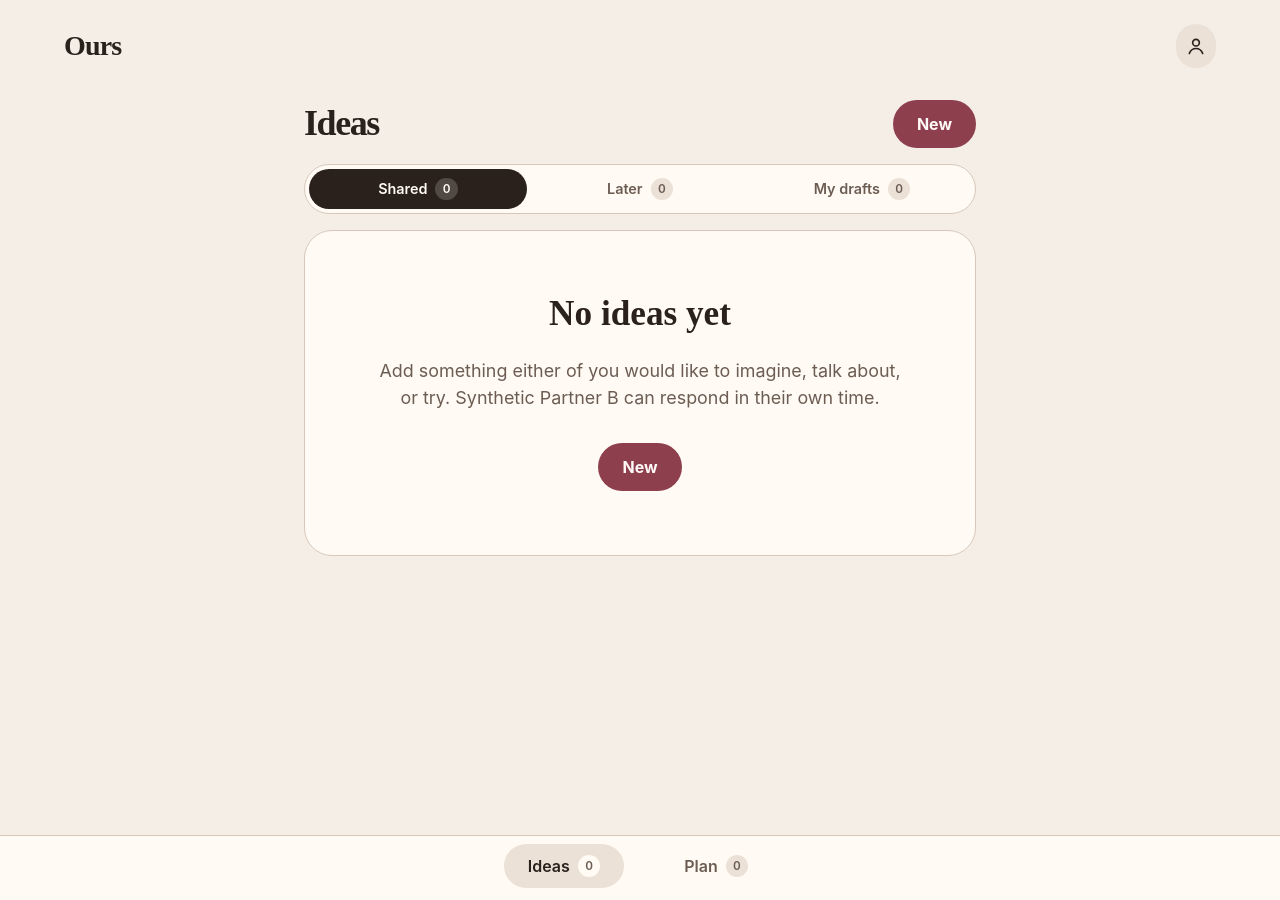
Scenario: authenticated member boundary › clears the query cache and private UI before the sign-in screen appears
Click the button named "Account".
click(1196, 46)  # box [1176,24,1216,68]
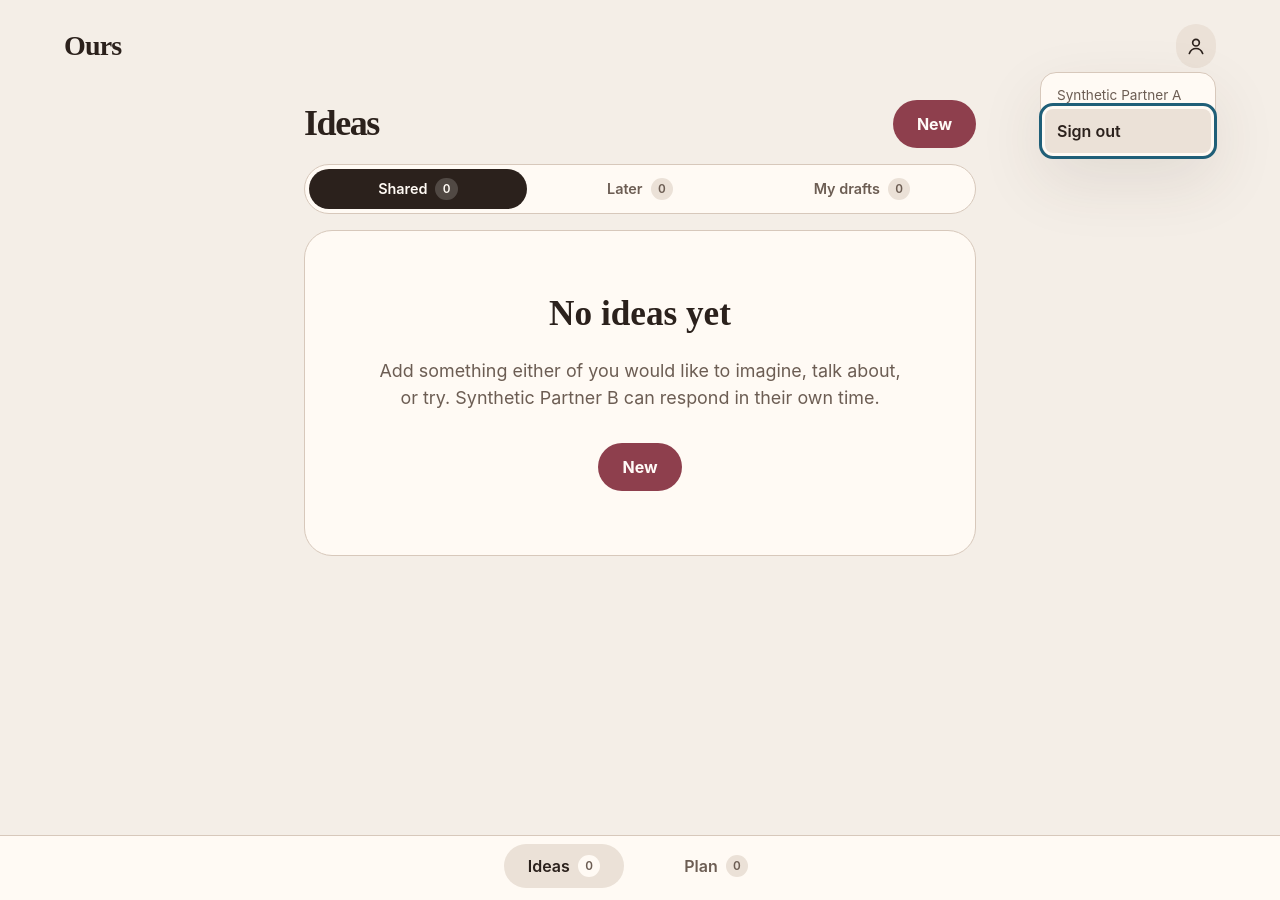
Click the menu item "Sign out".
click(1128, 131)  # box [1045,109,1211,153]
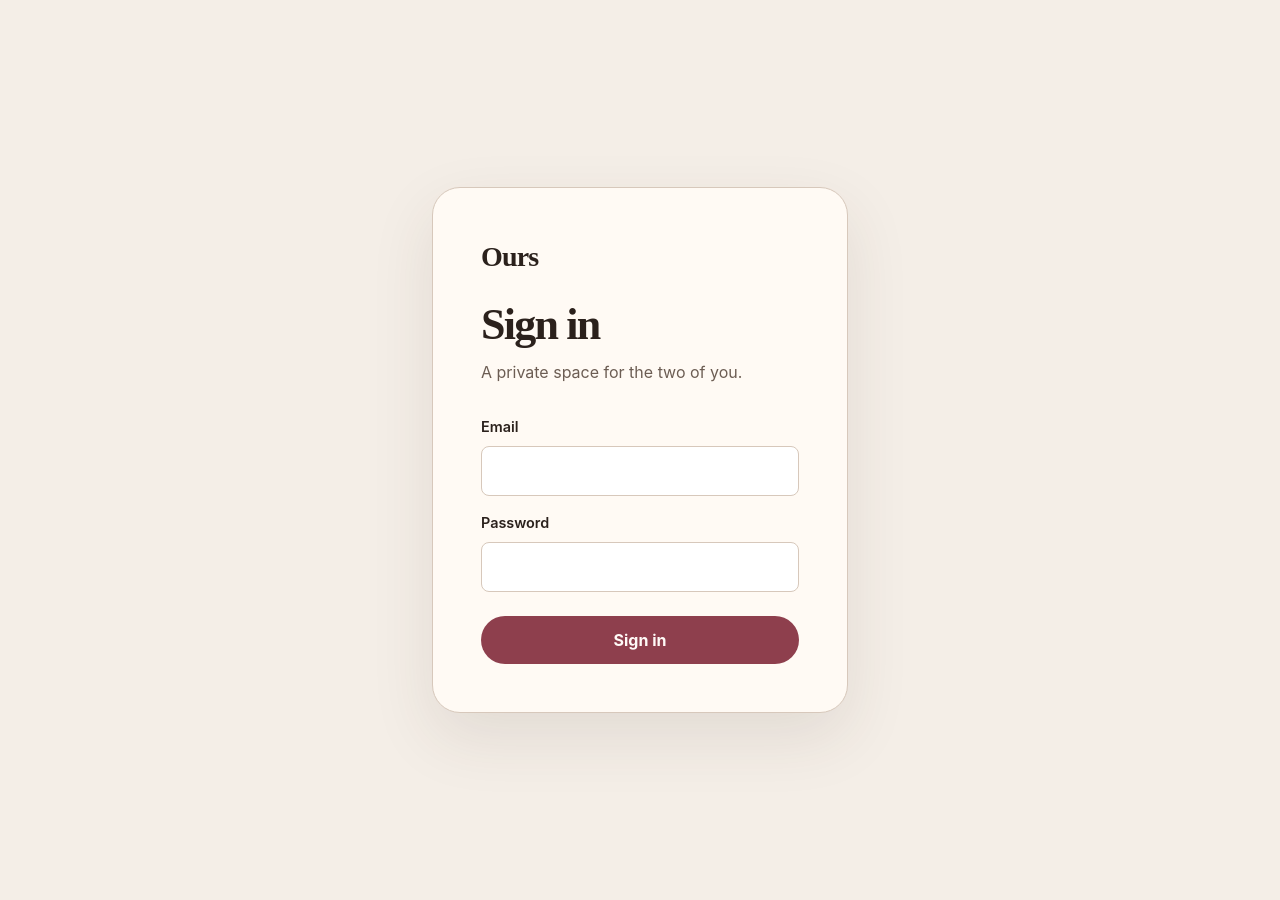
Check: the password field labelled "Password" is shown, box [481,542,799,592]
